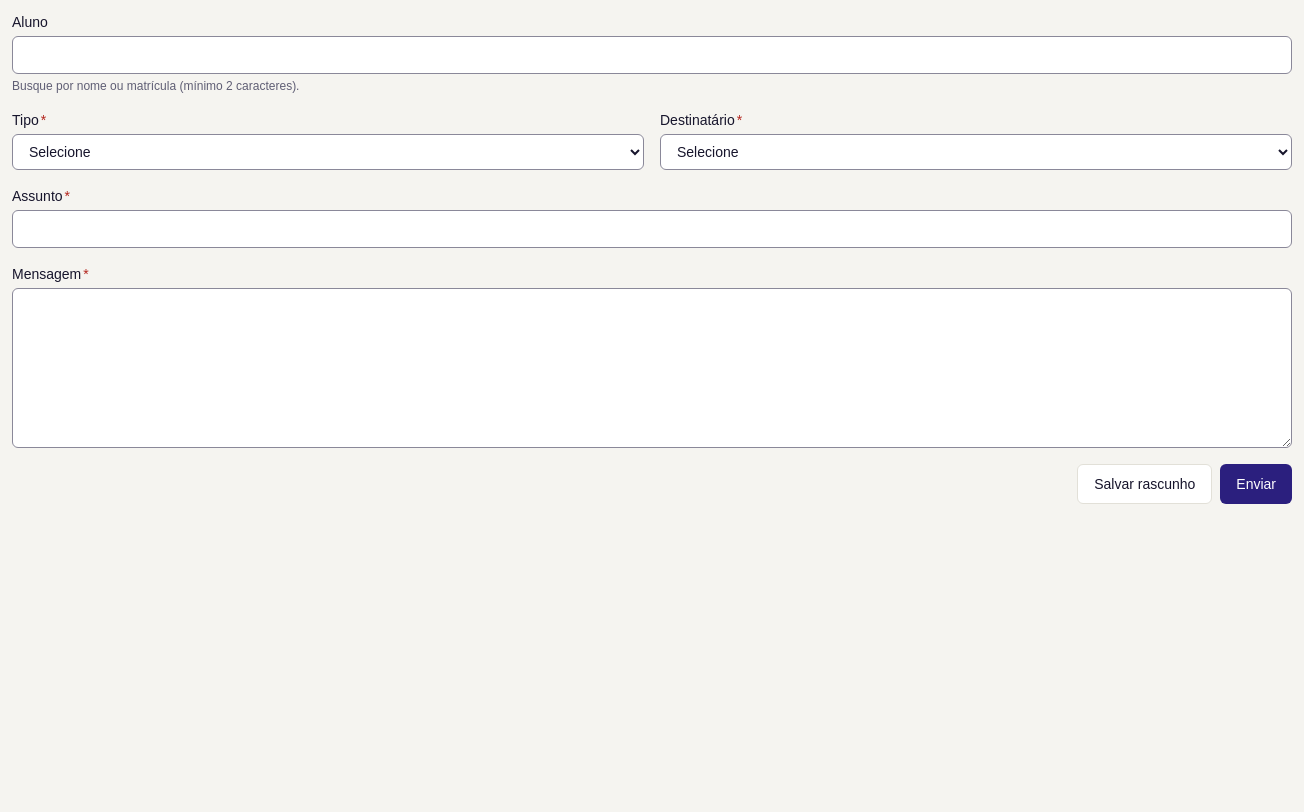
Test: EscreverMensagem › Enviar_com_tudo_vazio_marca_o_destinatario_junto_com_os_outros_campos
Click the button "Enviar": (1256,484) [1220,464,1292,504]
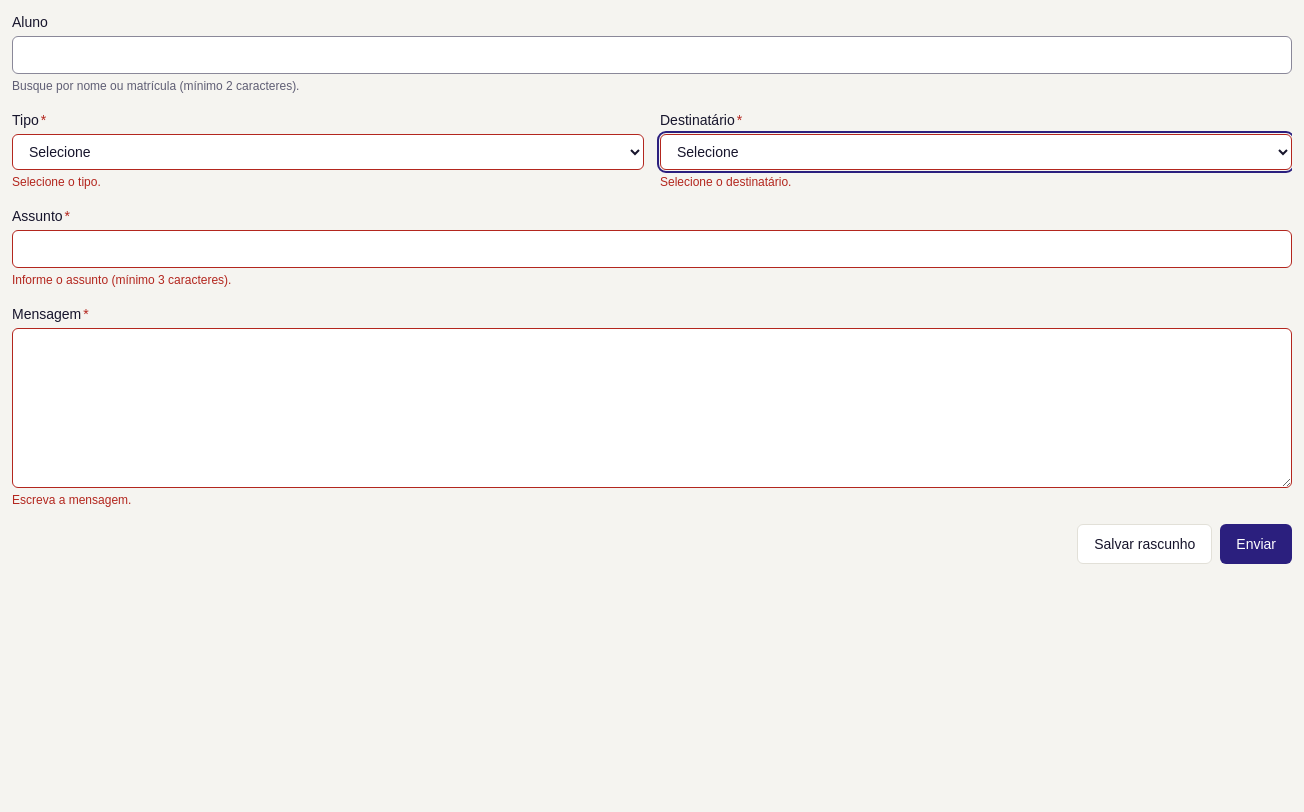
Check: the text "Selecione o tipo." is shown, box [12,175,101,189]
Check: the text "Selecione o destinatário." is shown, box [660,175,791,189]
